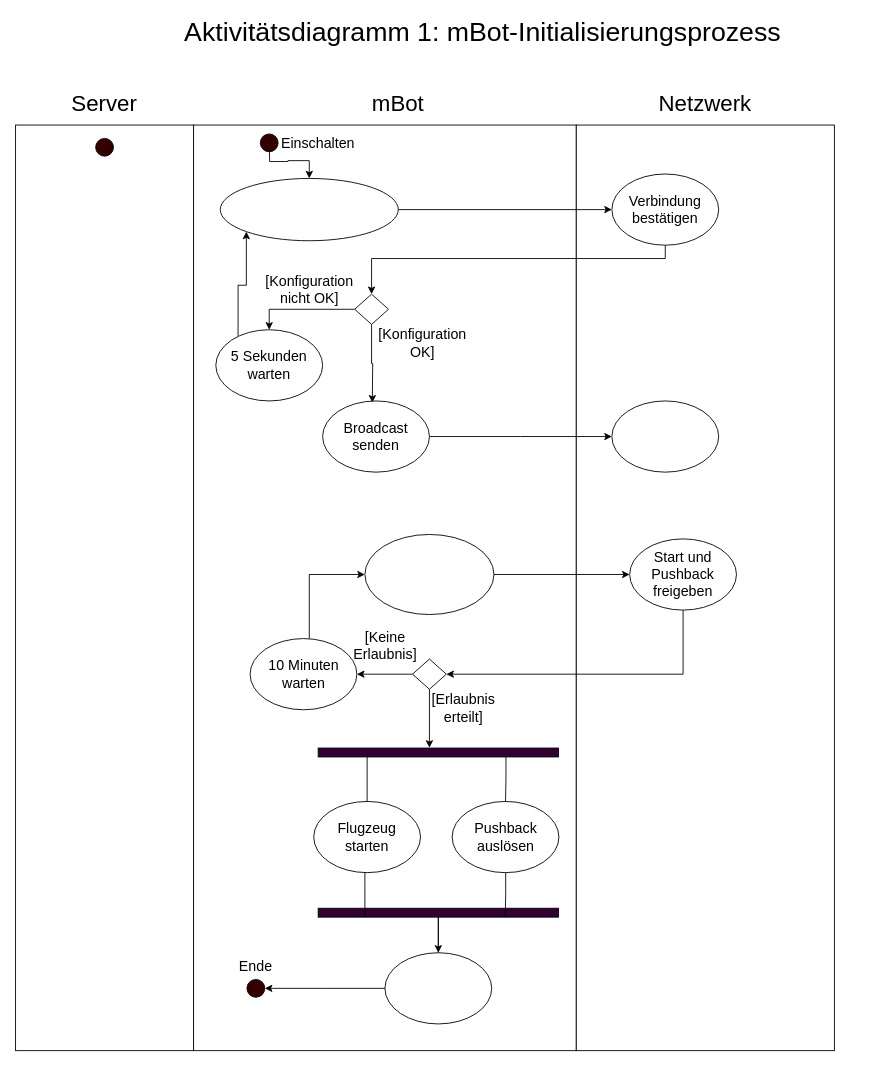
The diagram is 877 pixels wide and 1066 high, and some of its shapes have lost their labels. Each missing label, with the centre of its shape:
"Broadcast weiterleiten" belongs at [665,436].
"Erlaubnis Start und Pushback einholen" belongs at [429,574].
"Netzwerkkonfiguration übermitteln" belongs at [308,209].
"starten" belongs at [438,988].
